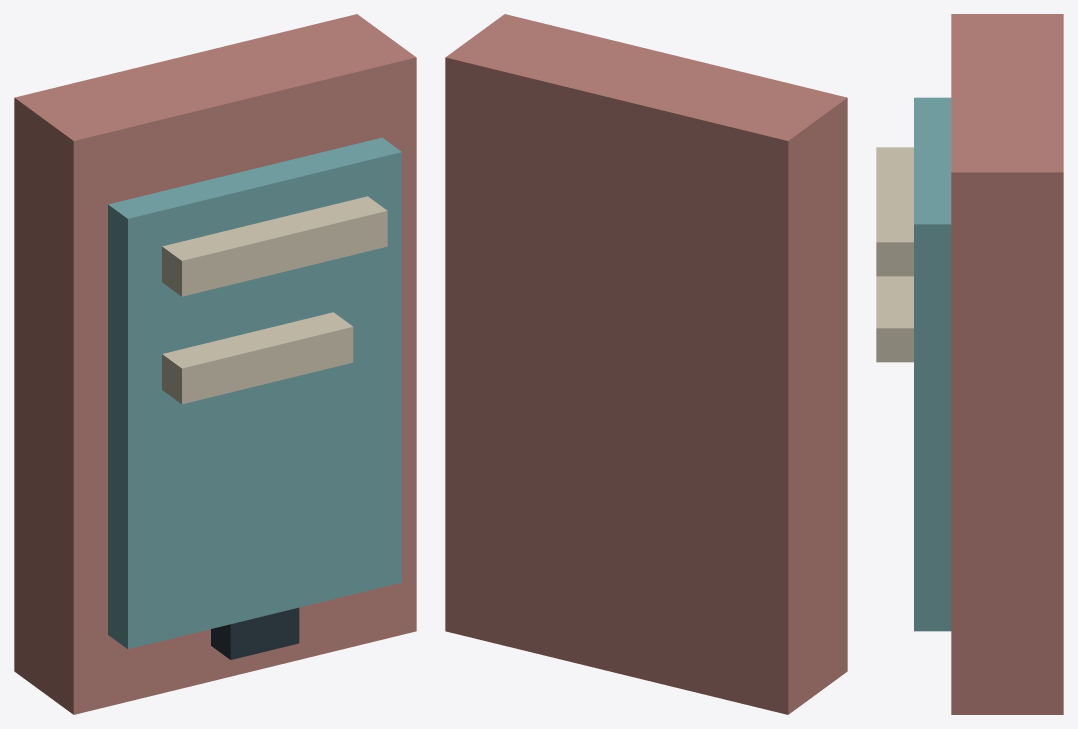
The model's file is commerce-19.glb.
The picture shows the model from 3 angles, left to right: view 1: azimuth 30°, elevation 25°; view 2: azimuth 150°, elevation 25°; view 3: azimuth 270°, elevation 25°; orthographic projection. The views are drawn at different scales.
Visible parts, largest first — view 1: Stock tablet; view 2: Stock tablet; view 3: Stock tablet.
Part boxes in pixels (x1,y1,x2,y2): Stock tablet: (14, 14, 416, 714); Stock tablet: (445, 14, 847, 714); Stock tablet: (876, 14, 1063, 714).
Size of the model in its own units: 0.8 by 1.28 by 0.4.
